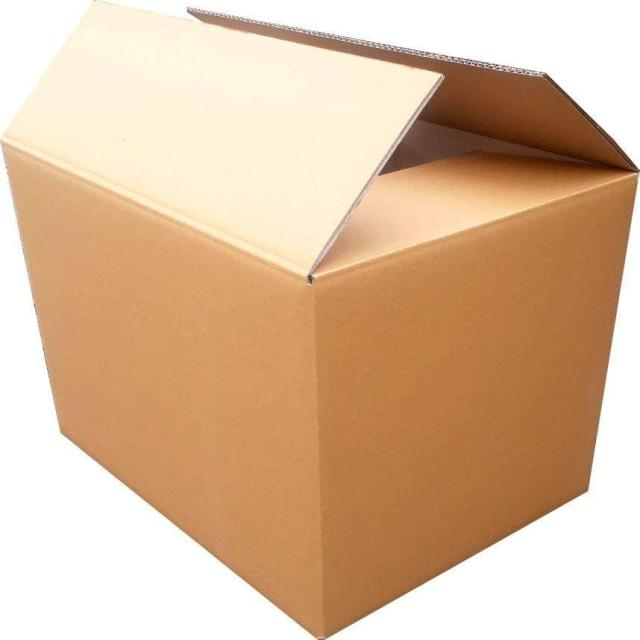Garbage: (2, 1, 640, 633)
